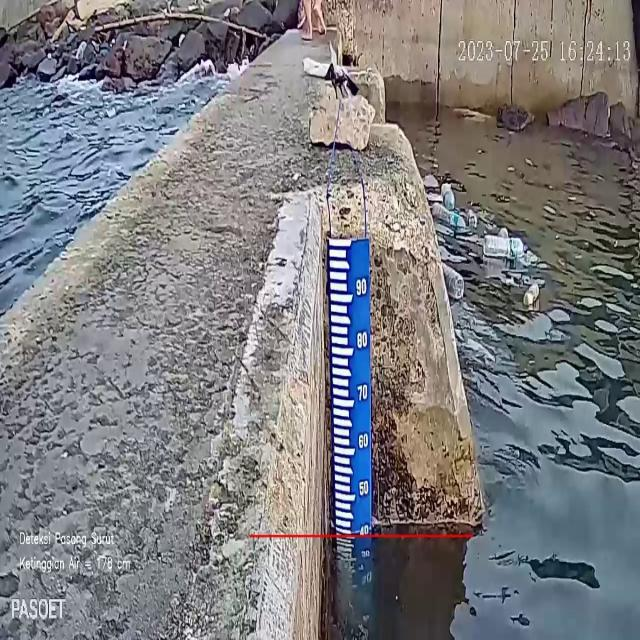50: (359, 480, 369, 497)
60: (358, 434, 368, 448)
70: (358, 383, 368, 402)
80: (357, 331, 368, 350)
90: (356, 278, 366, 296)
staff: (329, 238, 371, 534)
